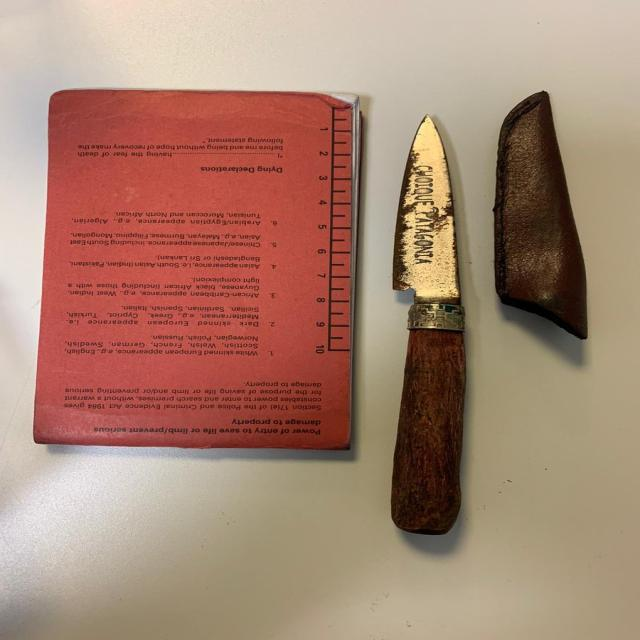Sharp-Object: (394, 112, 464, 538)
